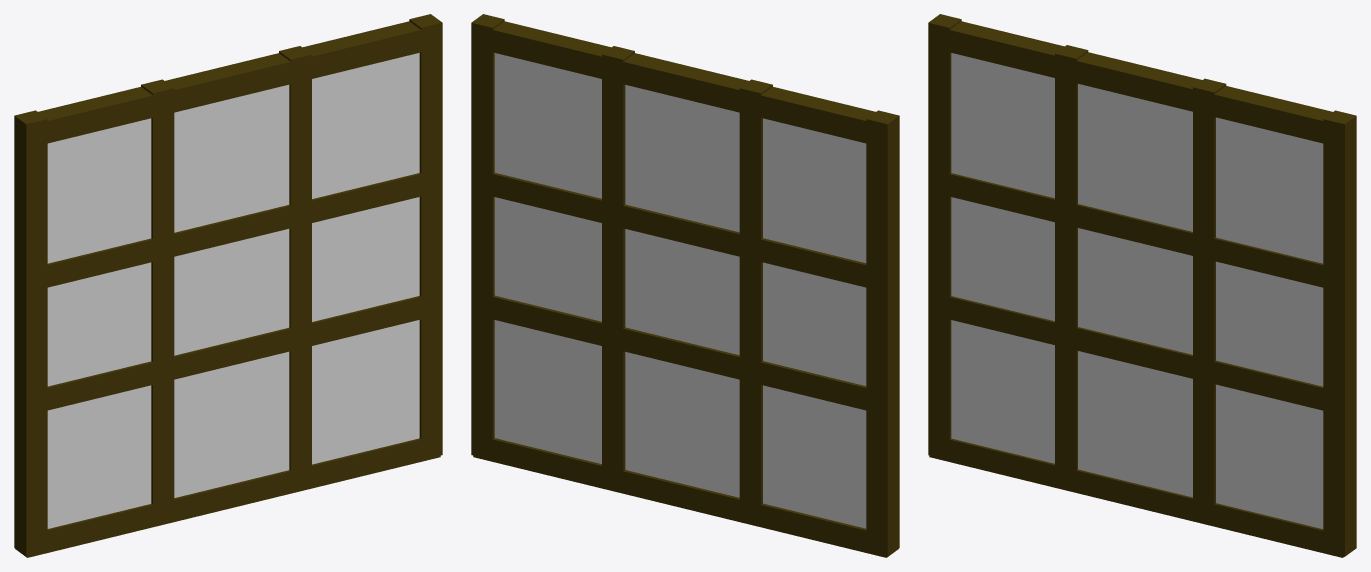
File: Ventana.fbx
3 views of the same model, side by side, from view 1: azimuth 30°, elevation 25°; view 2: azimuth 150°, elevation 25°; view 3: azimuth 330°, elevation 25° (orthographic).
Visible parts, largest first — view 1: Ventana5; view 2: Ventana5; view 3: Ventana5.
Part boxes in pixels (x1,y1,x2,y2): Ventana5: [14, 14, 442, 557]; Ventana5: [471, 14, 899, 557]; Ventana5: [928, 14, 1356, 557].
Size of the model in its own units: 3.51 by 3.49 by 0.1739.
